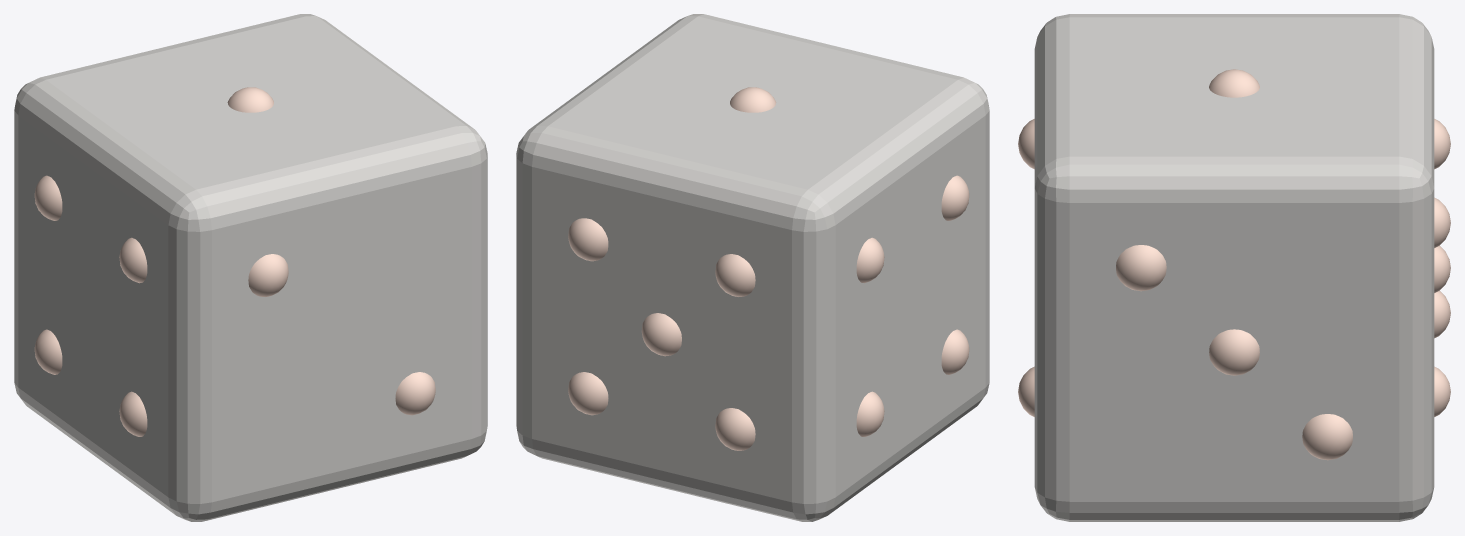
Rendered from Dice.fbx.
The picture shows the model from 3 angles, left to right: view 1: azimuth 30°, elevation 25°; view 2: azimuth 150°, elevation 25°; view 3: azimuth 270°, elevation 25°; orthographic projection. The views are drawn at different scales.
Visible parts, largest first — view 1: SM_ShowDie; view 2: SM_ShowDie; view 3: SM_ShowDie.
Part boxes in pixels (<box>): SM_ShowDie: <box>14,14,487,521</box>; SM_ShowDie: <box>516,14,989,521</box>; SM_ShowDie: <box>1018,14,1450,521</box>.
Bounding box in the file's own units: 0.039 × 0.039 × 0.039.
